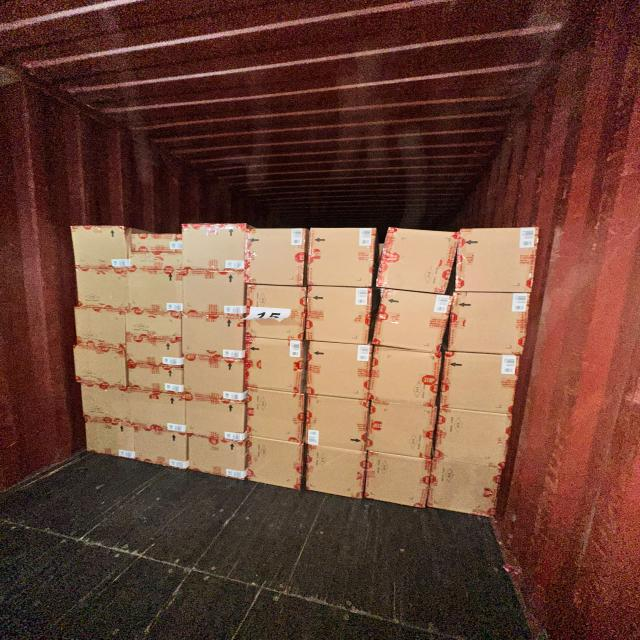Carton: (454, 226, 542, 296), (373, 224, 460, 294), (446, 290, 532, 359), (370, 288, 455, 354), (442, 349, 522, 413), (438, 408, 514, 468), (429, 457, 502, 518), (305, 227, 378, 287), (368, 345, 439, 406), (364, 450, 430, 511), (306, 284, 373, 344), (242, 227, 308, 287), (308, 342, 374, 401), (366, 402, 434, 459), (304, 443, 366, 502), (245, 283, 307, 342), (245, 336, 308, 394), (307, 395, 372, 451), (245, 386, 306, 443), (181, 222, 247, 272), (182, 354, 247, 404), (124, 311, 181, 368), (246, 435, 306, 489), (181, 269, 247, 317), (184, 394, 248, 443), (180, 313, 245, 361), (68, 224, 130, 268), (128, 268, 185, 314), (188, 435, 246, 480), (74, 266, 132, 310), (72, 309, 127, 355), (79, 382, 134, 427), (135, 425, 188, 471), (131, 388, 188, 429), (73, 344, 128, 386), (84, 419, 137, 460), (125, 361, 183, 392), (128, 233, 186, 254), (128, 251, 184, 271)
